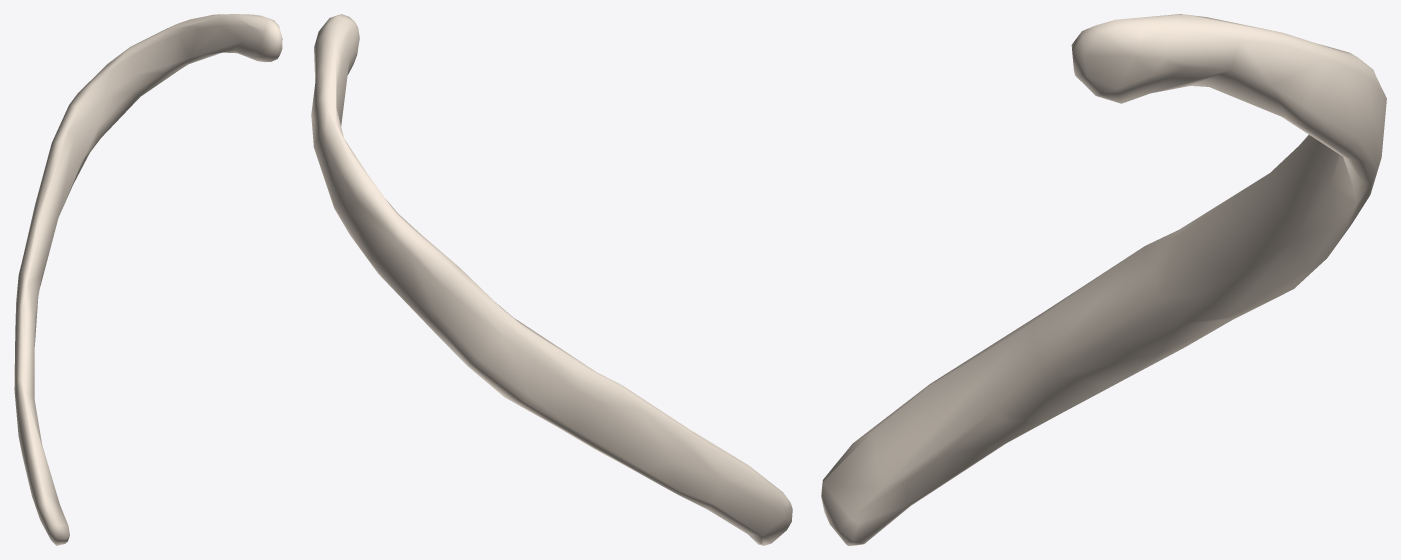
The model's file is right_rib_11.glb.
3 views of the same model, side by side, from view 1: azimuth 30°, elevation 25°; view 2: azimuth 150°, elevation 25°; view 3: azimuth 270°, elevation 25° (orthographic). The views are drawn at different scales.
Visible parts, largest first — view 1: Rib (11th).r; view 2: Rib (11th).r; view 3: Rib (11th).r.
Boxes of the visible parts, left/top/right/bottom form: Rib (11th).r: left=14, top=14, right=282, bottom=545; Rib (11th).r: left=311, top=14, right=792, bottom=545; Rib (11th).r: left=821, top=14, right=1386, bottom=545.
Size of the model in its own units: 0.0592 by 0.0759 by 0.0496.
